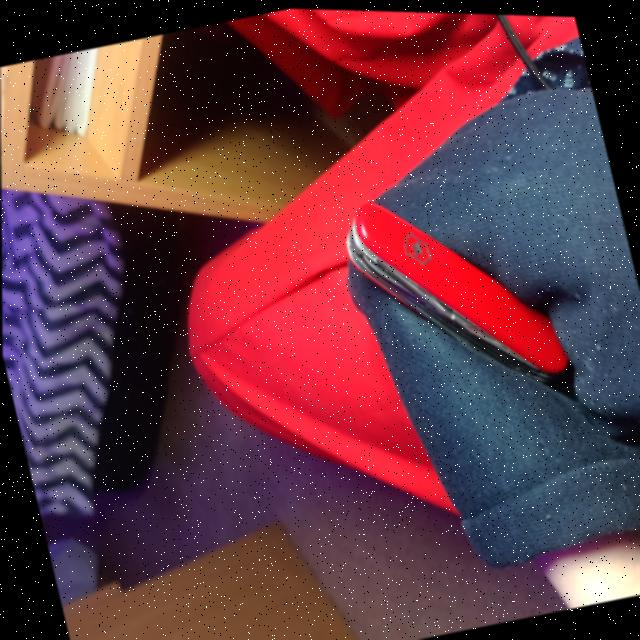knife victorinox: (346, 199, 567, 378)
